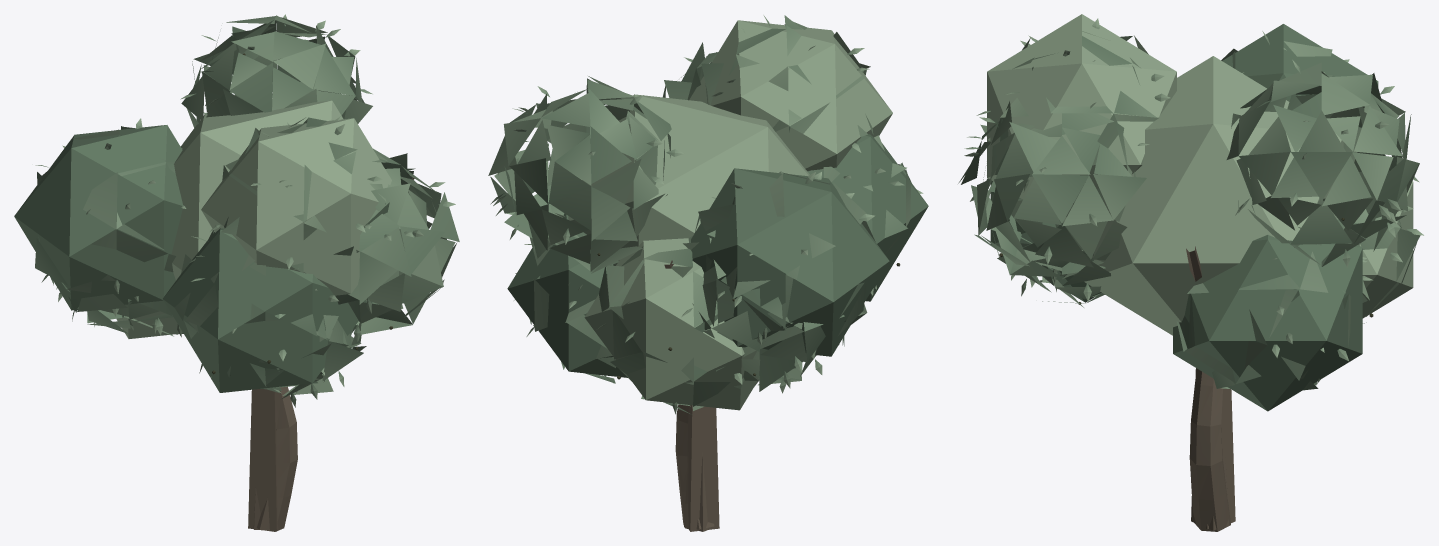
File: olive.glb
3 views of the same model, side by side, from view 1: azimuth 30°, elevation 25°; view 2: azimuth 150°, elevation 25°; view 3: azimuth 270°, elevation 25° (orthographic). The views are drawn at different scales.
Parts seen in each view (by area): view 1: leaves (×3), trunk; view 2: leaves (×3), trunk (×2); view 3: leaves (×3), trunk.
Boxes of the visible parts, <box> form: leaves (×3): <box>14,14,459,531</box>; trunk: <box>257,177,414,531</box>; leaves (×3): <box>488,15,928,531</box>; trunk (×2): <box>664,260,714,531</box>; leaves (×3): <box>958,14,1423,530</box>; trunk: <box>1186,246,1230,531</box>.
Bounding box in the file's own units: 0.7893 × 1 × 0.878.
